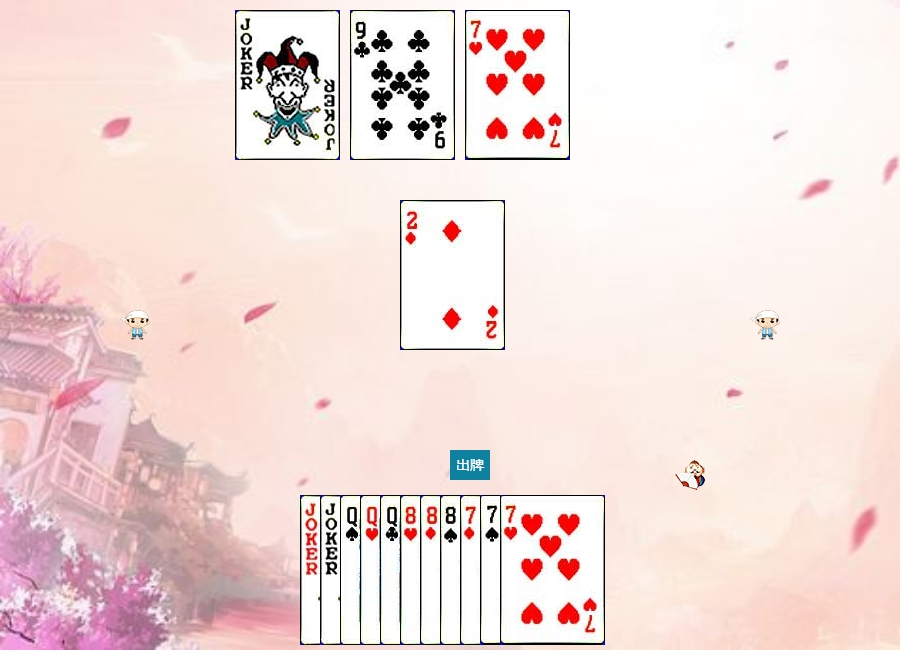12~2: (380, 495, 485, 645)
12~3: (360, 495, 465, 645)
12~4: (340, 495, 445, 645)
15~1: (400, 200, 505, 350)
17~3: (235, 10, 340, 160), (320, 495, 425, 645)
18~4: (300, 495, 405, 645)
7~1: (460, 495, 565, 645)
7~3: (465, 10, 570, 160), (500, 495, 605, 645)
7~4: (480, 495, 585, 645)
8~1: (420, 495, 525, 645)
8~3: (400, 495, 505, 645)
8~4: (440, 495, 545, 645)
9~2: (350, 10, 455, 160)
